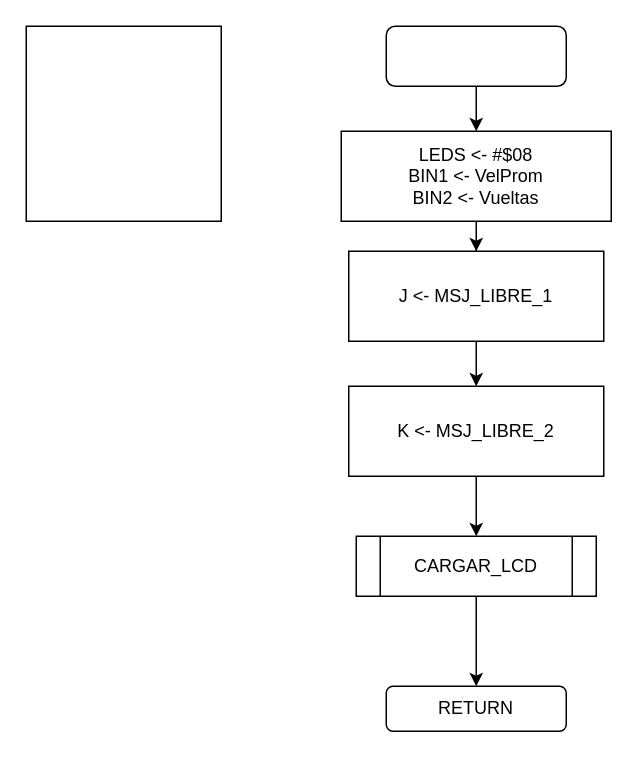
The diagram is 638 pixels wide and 758 high, and some of its shapes have lost their labels. Here are the shapes that lost their labels. From the top down, the box of each, then its label:
(385, 25, 566, 86): RESUMEN
(25, 25, 221, 221): C - carry K. - Y J - X R1 - A R2 - B RR1 - D
